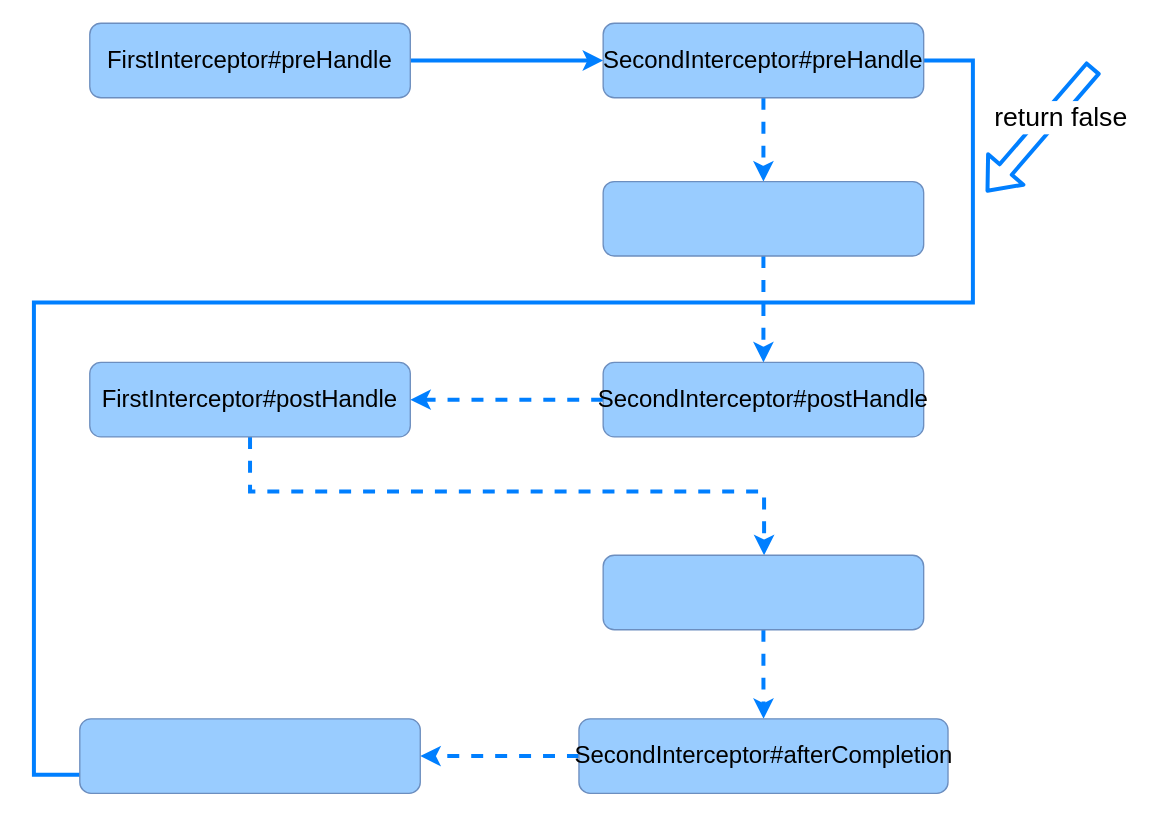
Some shapes in this 1150 by 817 pixel diagram are drawn without their labels. Each missing label, with the centre of its shape:
DispatcherServlet #render: point (763, 592)
FirstInterceptor# afterCompletion: point (249, 755)
HandlerAdapter#handle: point (763, 218)
